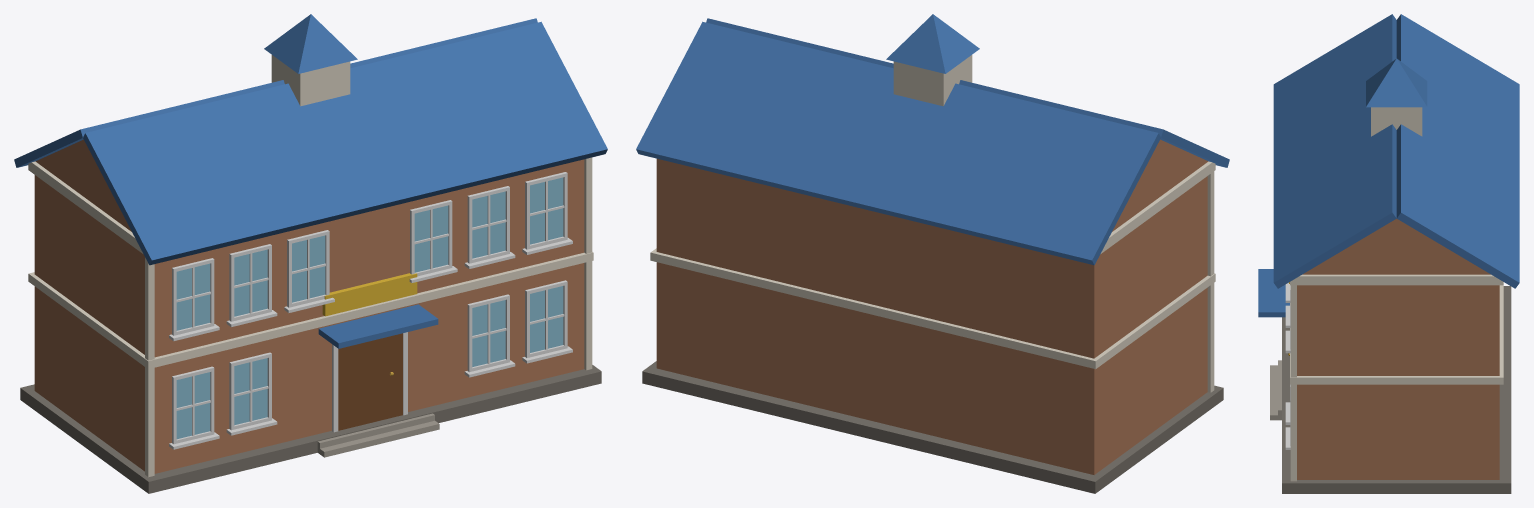
Rendered from school.gltf.
3 renders of one model, left to right at view 1: azimuth 30°, elevation 25°; view 2: azimuth 150°, elevation 25°; view 3: azimuth 270°, elevation 25°, orthographic. The views are drawn at different scales.
Visible parts, largest first — view 1: school; view 2: school; view 3: school.
Part boxes in pixels (x1,y1,x2,y2): school: (14,14,607,493); school: (636,14,1229,493); school: (1258,14,1519,493).
Bounding box in the file's own units: 11.88 × 9.4 × 6.61.
